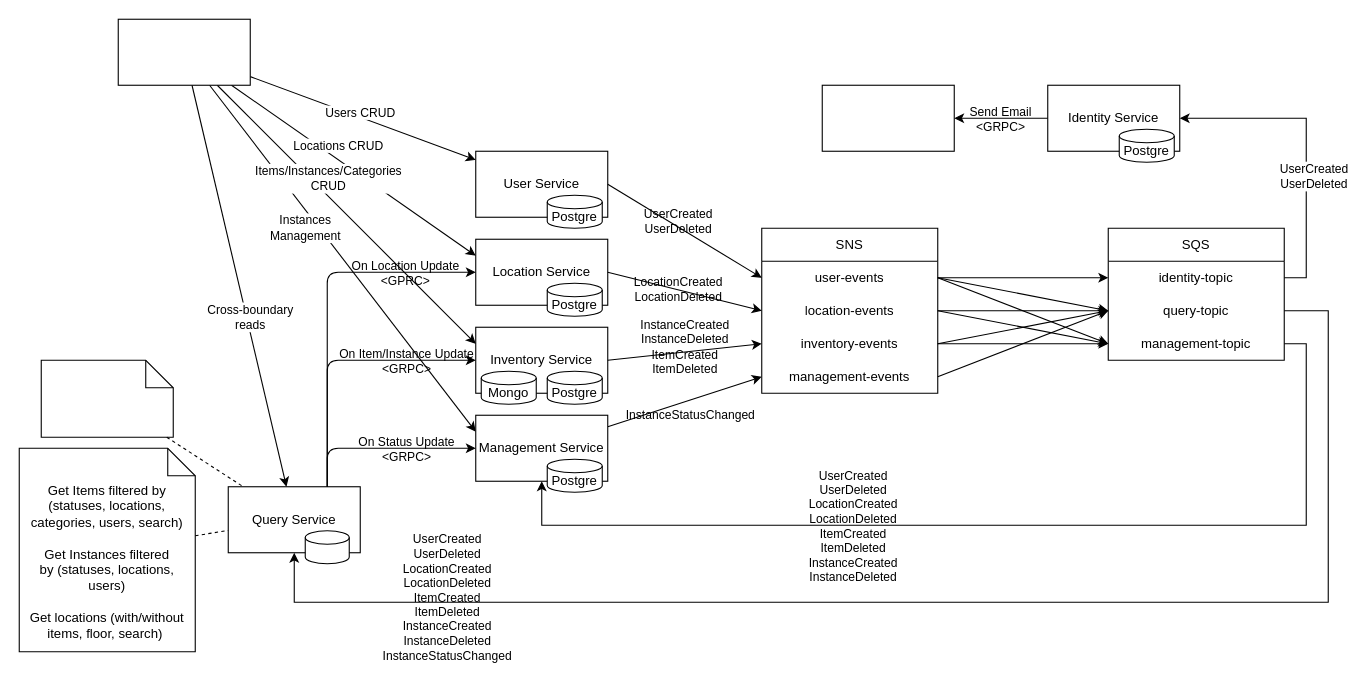
Image size: 1366x682. Some labels were removed from this diagram. Here are the shapes that lost their labels. From the top down, the centre of each, then its label:
At (x=183, y=51): "Api Gateway".
At (x=887, y=117): "Email Service".
At (x=106, y=398): "Requests are paginated".
At (x=326, y=547): "Redis".
